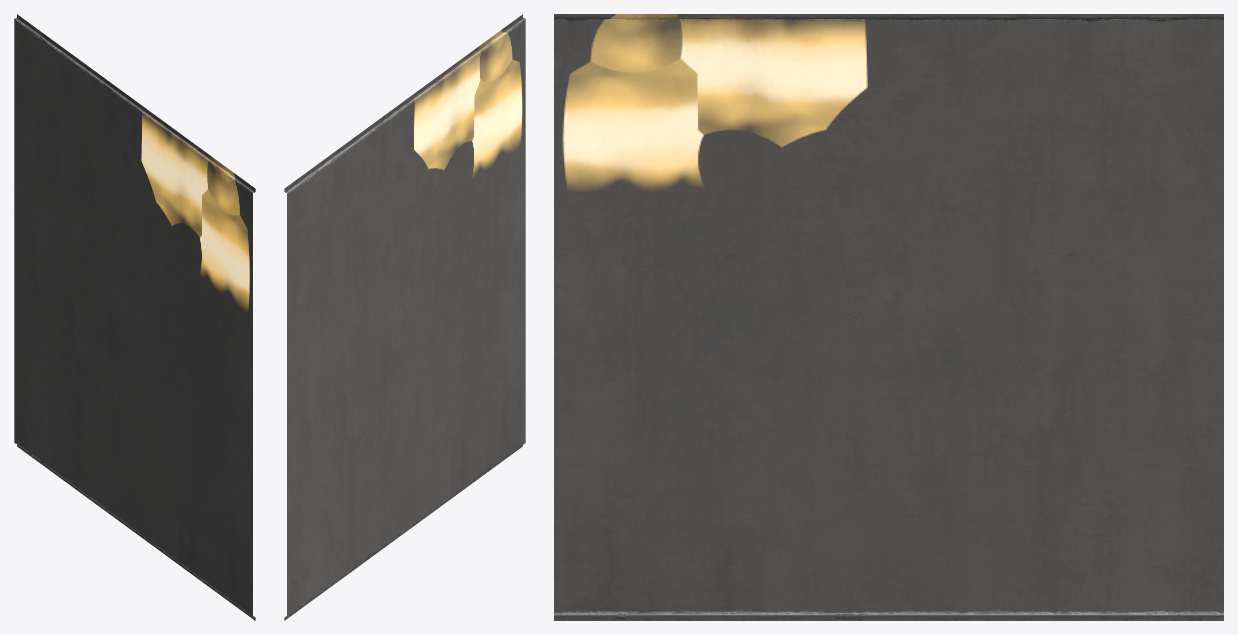
Rendered from SM_Sewer_Wall_Concrete_01a.fbx.
3 views of the same model, side by side, from view 1: azimuth 30°, elevation 25°; view 2: azimuth 150°, elevation 25°; view 3: azimuth 270°, elevation 25° (orthographic). The views are drawn at different scales.
Visible parts, largest first — view 1: SM_Sewer_Wall_Concrete_01a_LOD0; view 2: SM_Sewer_Wall_Concrete_01a_LOD0; view 3: SM_Sewer_Wall_Concrete_01a_LOD0.
Part boxes in pixels (x1,y1,x2,y2): SM_Sewer_Wall_Concrete_01a_LOD0: [14, 14, 255, 620]; SM_Sewer_Wall_Concrete_01a_LOD0: [284, 14, 525, 620]; SM_Sewer_Wall_Concrete_01a_LOD0: [554, 14, 1223, 620].
Bounding box in the file's own units: 1.4 × 200 × 200.
